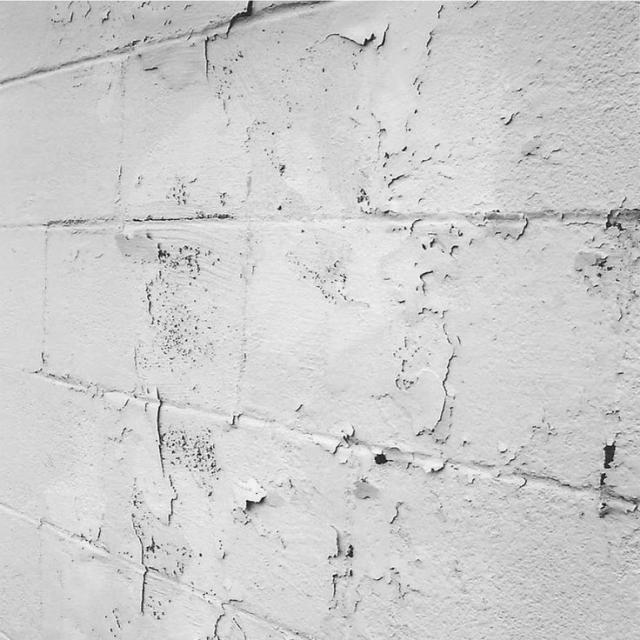peeling paint: (21, 1, 640, 640)
